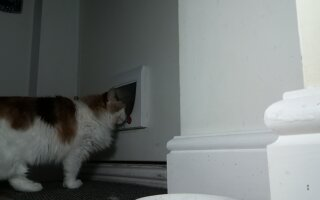clara: (2, 91, 134, 197)
